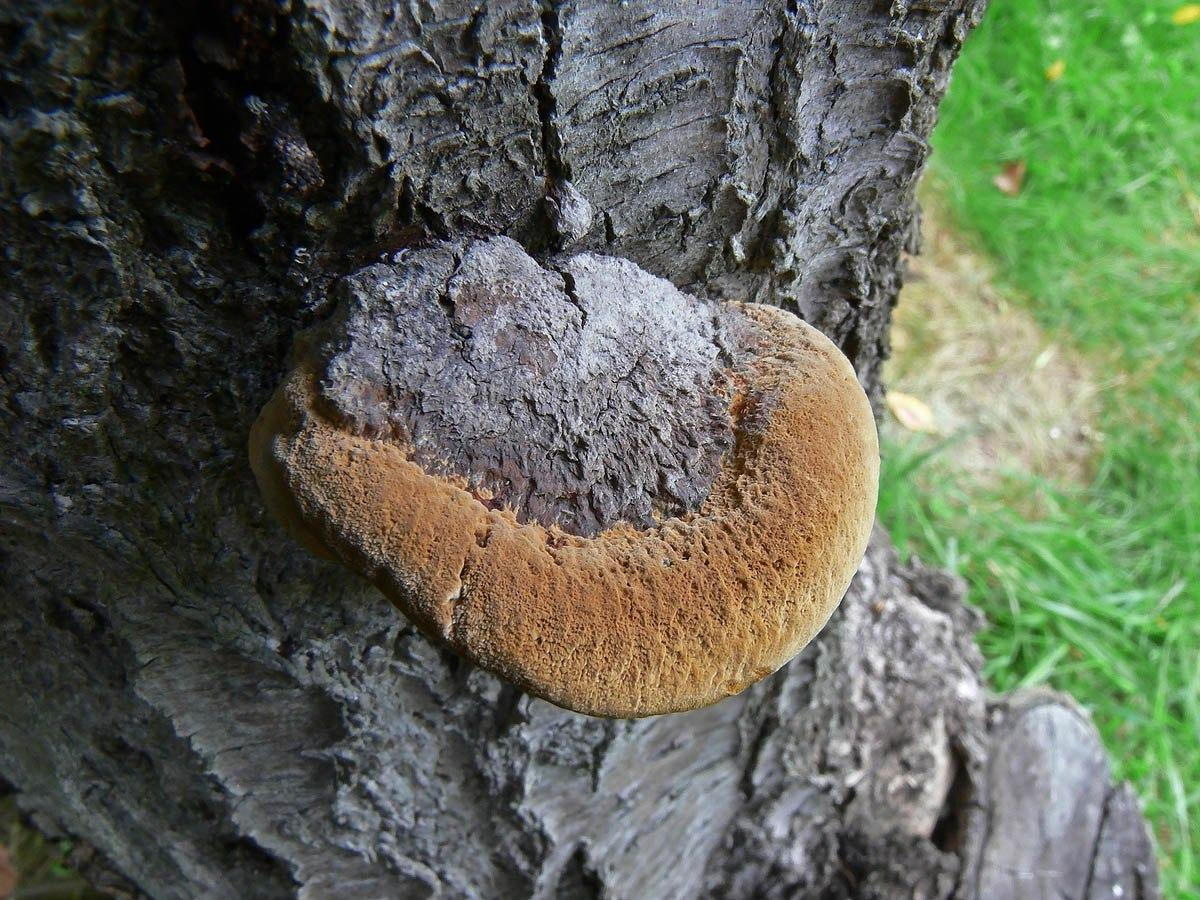Plum tinder fungus: (242, 201, 922, 740)
